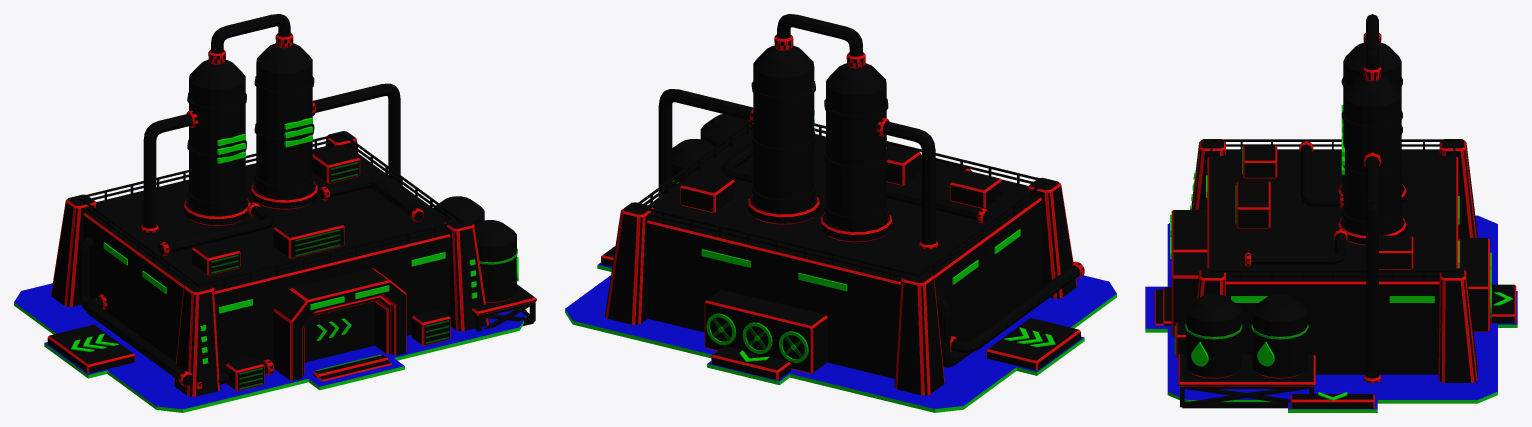
Rendered from SM_Holo_FluidPlant_T2.fbx.
3 views of the same model, side by side, from view 1: azimuth 30°, elevation 25°; view 2: azimuth 150°, elevation 25°; view 3: azimuth 270°, elevation 25° (orthographic). The views are drawn at different scales.
Visible parts, largest first — view 1: SM_Holo_FluidPlant_T2; view 2: SM_Holo_FluidPlant_T2; view 3: SM_Holo_FluidPlant_T2.
Boxes of the visible parts, <box> form: SM_Holo_FluidPlant_T2: <box>14,14,536,412</box>; SM_Holo_FluidPlant_T2: <box>565,14,1116,412</box>; SM_Holo_FluidPlant_T2: <box>1145,14,1517,412</box>.
Bounding box in the file's own units: 36.4 × 23.88 × 28.2.
